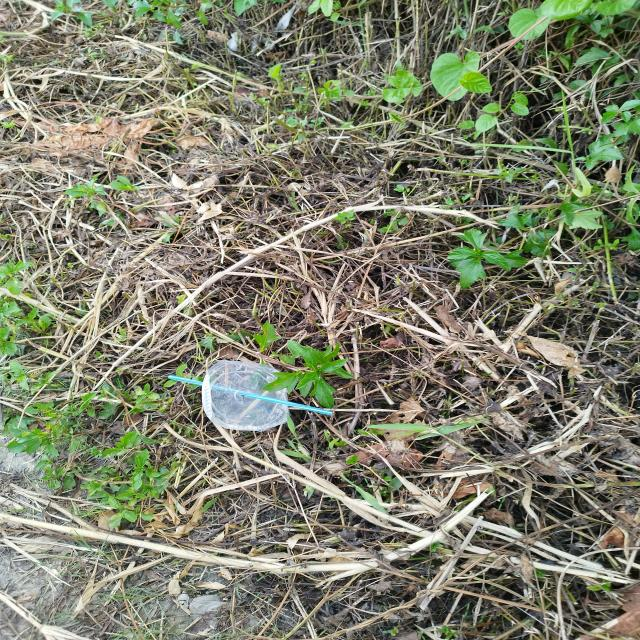drinking straw: (167, 373, 333, 416)
lid: (202, 361, 290, 431)
